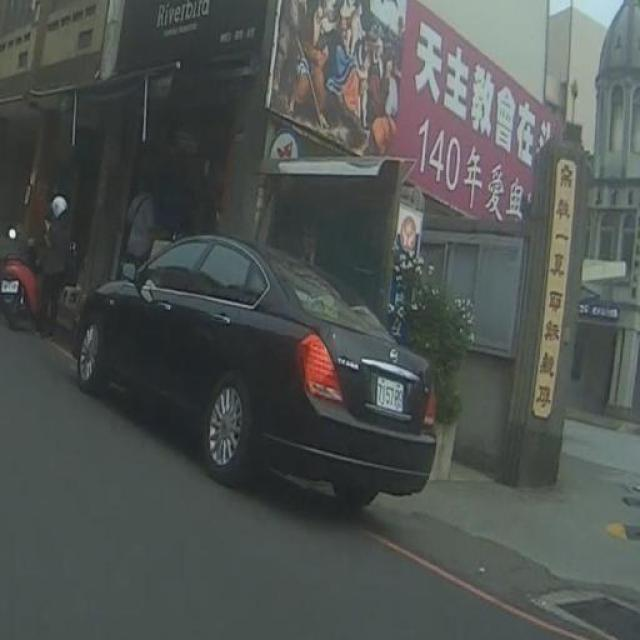illegalparking: (74, 235, 435, 509)
